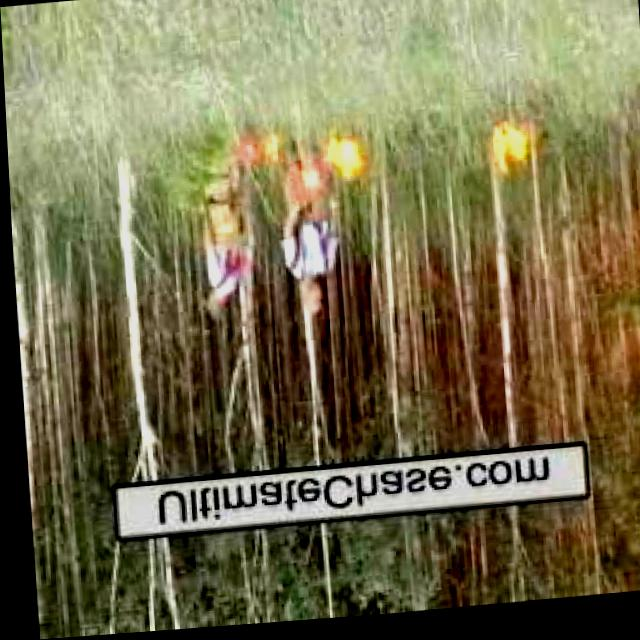Fire: (322, 137, 365, 186)
Smoke: (488, 118, 529, 180)
